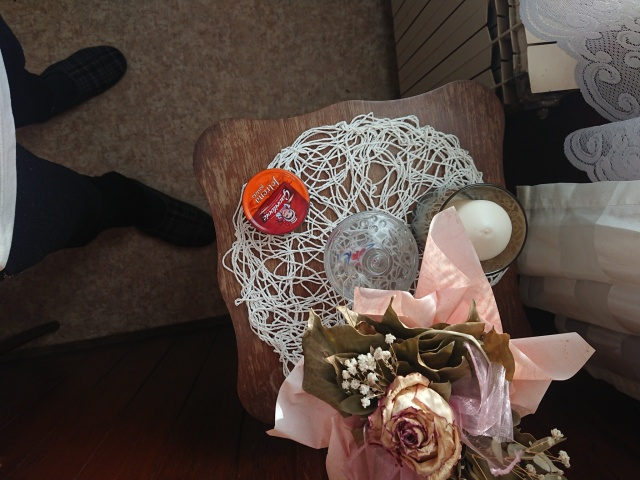Gavrilovic Pork Liver Pate 100g: (239, 166, 311, 236)
